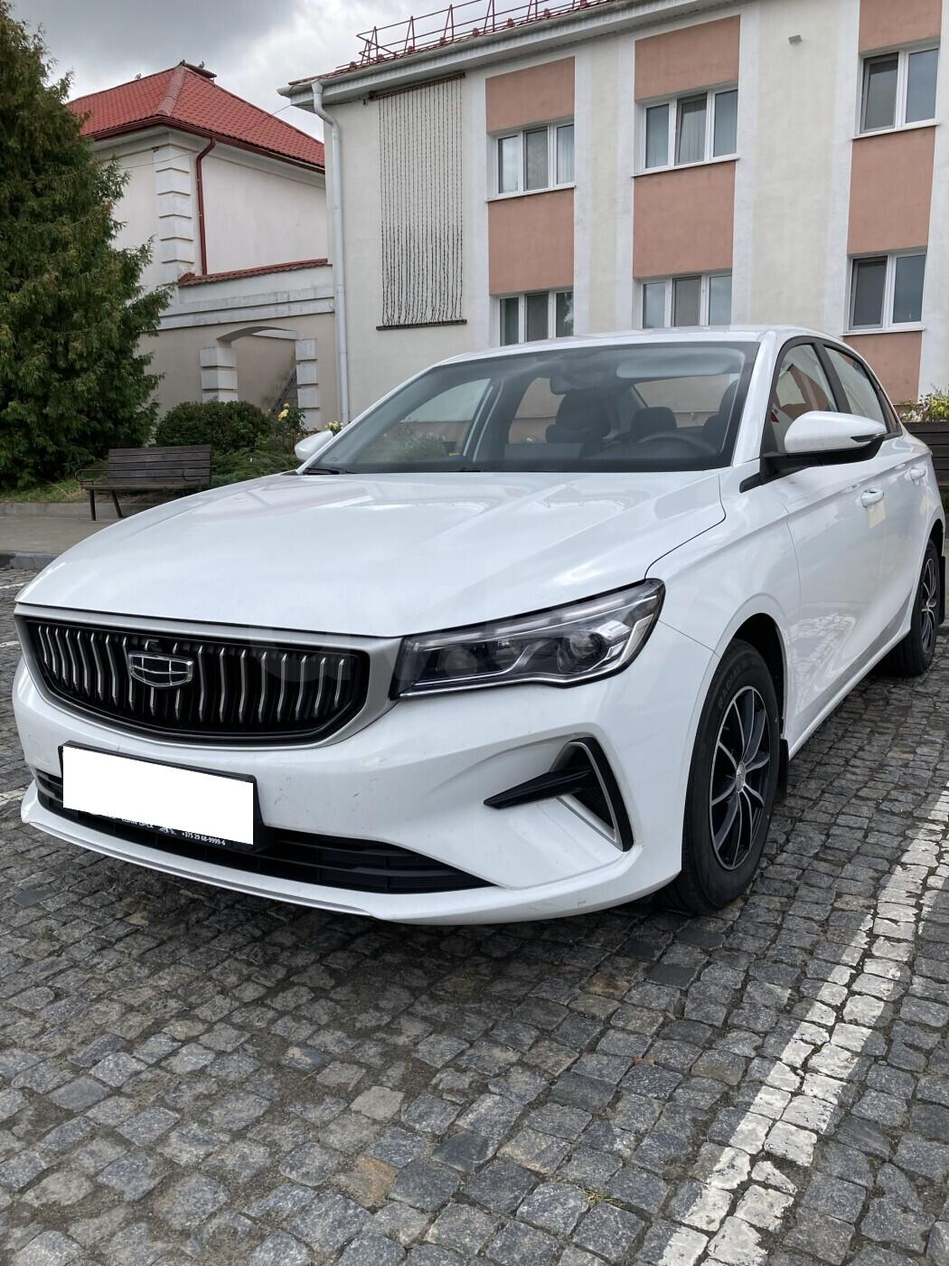Emgrand_2021: (0, 313, 949, 950)
